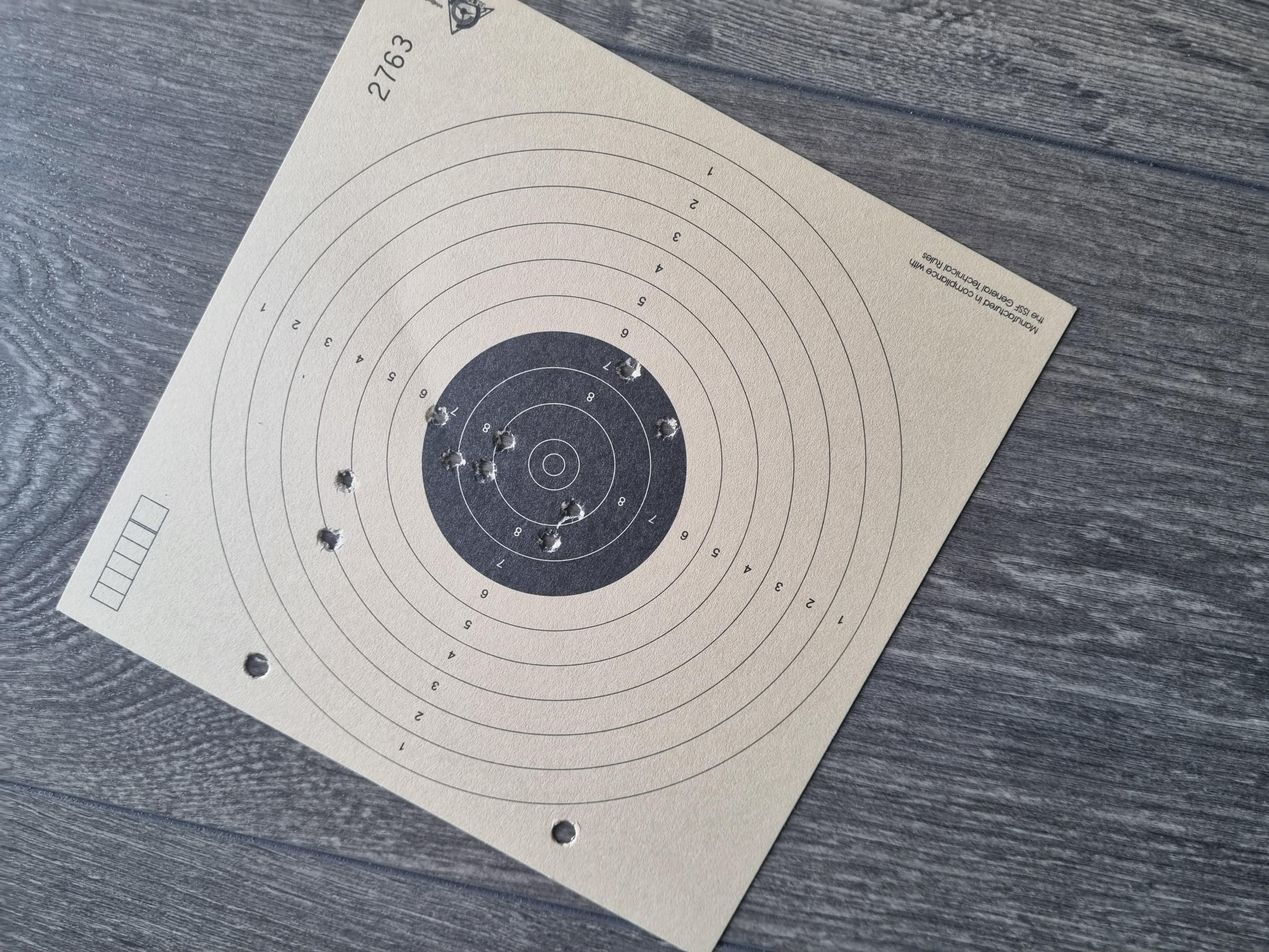hole: (563, 417, 605, 439), (533, 237, 566, 258), (624, 354, 658, 373), (664, 369, 699, 387), (761, 462, 793, 481), (682, 492, 713, 511), (610, 251, 645, 267), (531, 404, 563, 421), (641, 331, 670, 349), (700, 319, 728, 337)
